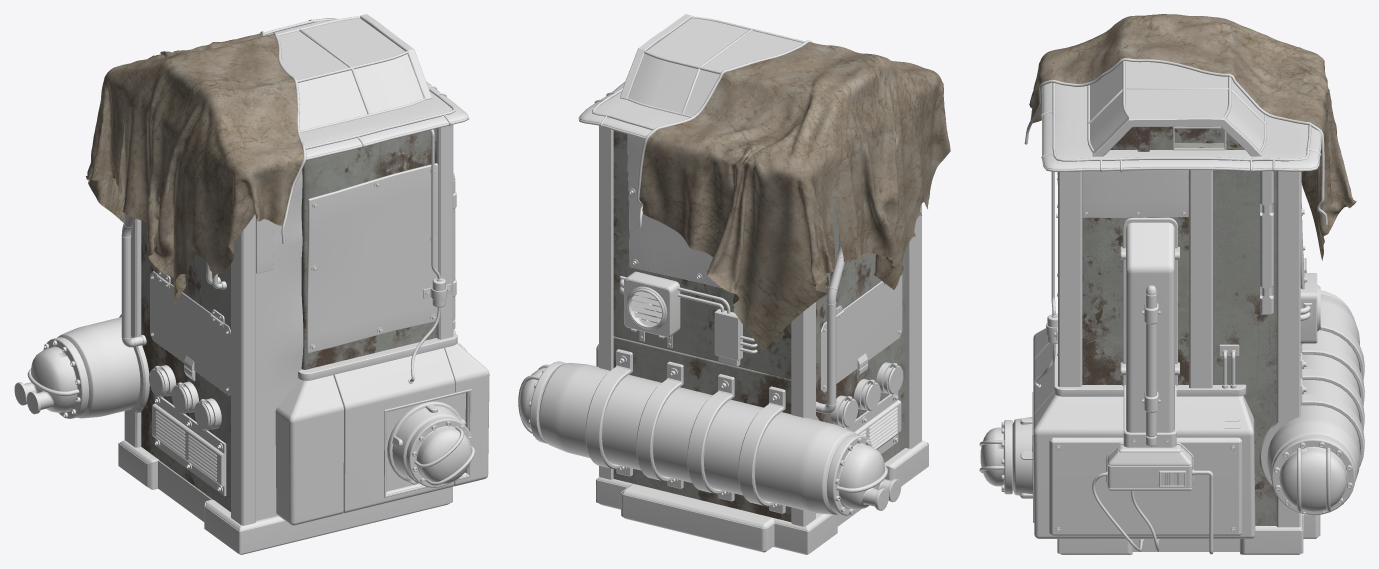
The model's file is WaterFiltrationUnit.fbx.
3 views of the same model, side by side, from view 1: azimuth 30°, elevation 25°; view 2: azimuth 150°, elevation 25°; view 3: azimuth 270°, elevation 25° (orthographic).
Parts seen in each view (by area): view 1: WaterFiltrationUnit; view 2: WaterFiltrationUnit; view 3: WaterFiltrationUnit.
Boxes of the visible parts, bbox=[...] form: WaterFiltrationUnit: bbox=[14, 14, 489, 554]; WaterFiltrationUnit: bbox=[518, 14, 950, 554]; WaterFiltrationUnit: bbox=[979, 14, 1364, 554].
Size of the model in its own units: 2.2 by 2.53 by 1.99.
